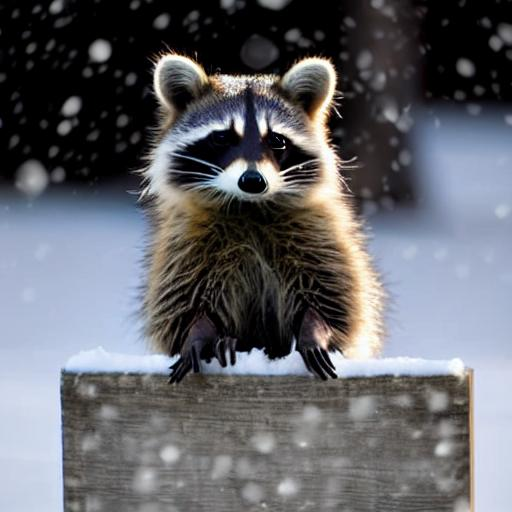raccoon: (131, 44, 385, 332)
